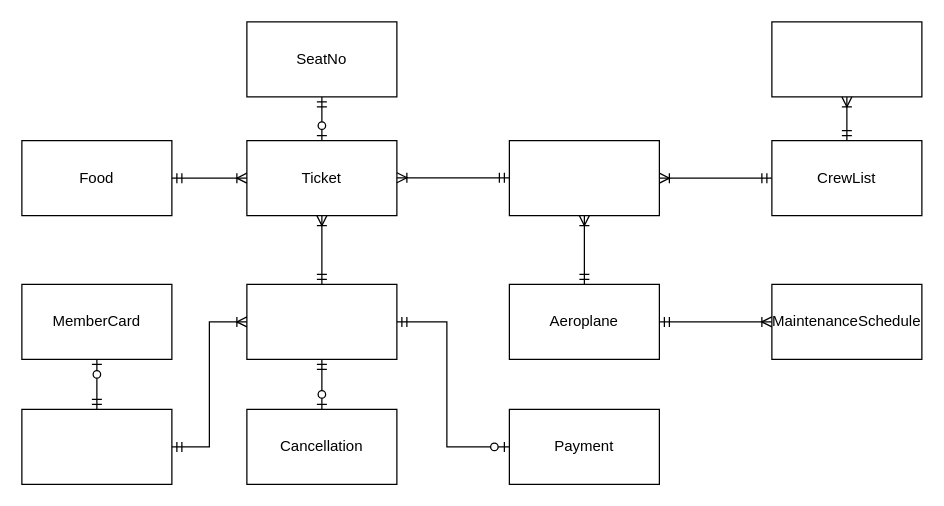
Some shapes in this 944 by 506 pixel diagram are drawn without their labels. Here are the shapes that lost their labels. From the top down, the centre of each, then its label:
At (846,59): "Crew".
At (583,177): "FlightSchedule".
At (321,321): "Reservation".
At (96,446): "Customer".
